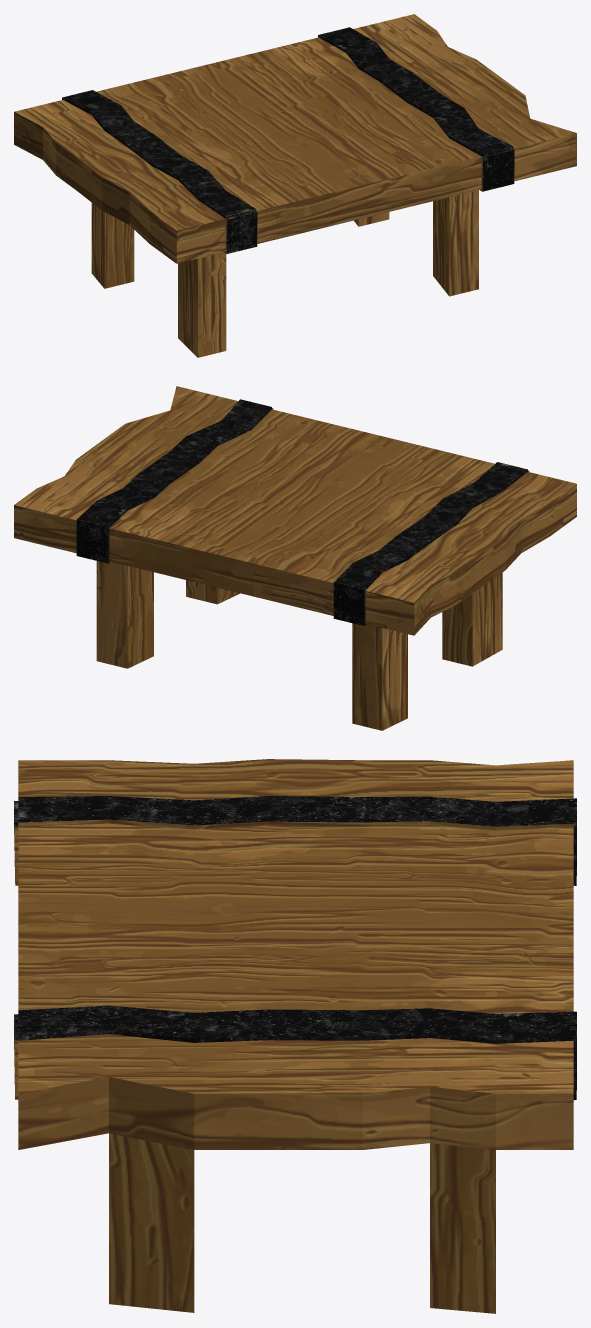
Rendered from table.fbx.
3 views of the same model, one above another, from view 1: azimuth 30°, elevation 25°; view 2: azimuth 150°, elevation 25°; view 3: azimuth 270°, elevation 25° (orthographic). The views are drawn at different scales.
Visible parts, largest first — view 1: Cube; view 2: Cube; view 3: Cube.
Boxes of the visible parts, x1,y1,x2,y2 form: Cube: (14,14,576,357); Cube: (14,386,576,730); Cube: (14,759,576,1313).
Size of the model in its own units: 131 by 50.03 by 93.17.
Materials: 1 (1 with a texture image).
